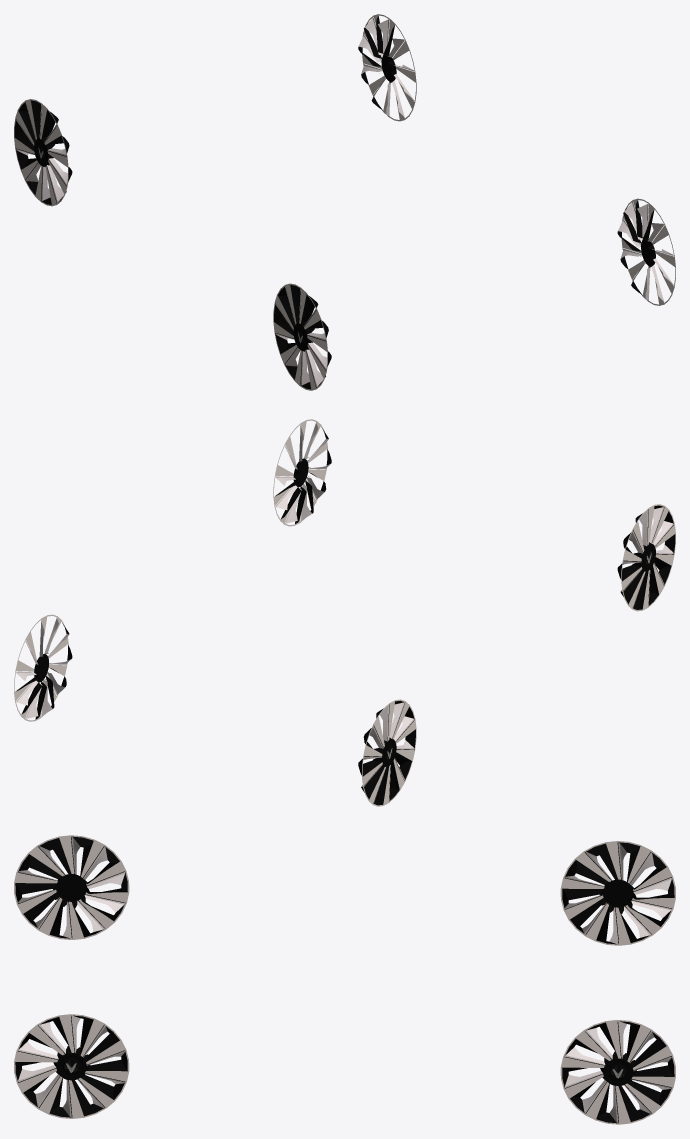
The picture shows the model from 3 angles, top to bottom: view 1: azimuth 30°, elevation 25°; view 2: azimuth 150°, elevation 25°; view 3: azimuth 270°, elevation 25°; orthographic projection. The views are drawn at different scales.
Visible parts, largest first — view 1: 2; view 2: 2; view 3: 2.
Boxes of the visible parts, x1,y1,x2,y2 form: 2: (14,14,675,390); 2: (14,419,675,806); 2: (14,835,675,1124).
Bounding box in the file's own units: 0.9731 × 0.2795 × 1.52.
Materials: 4 (1 with a texture image).
